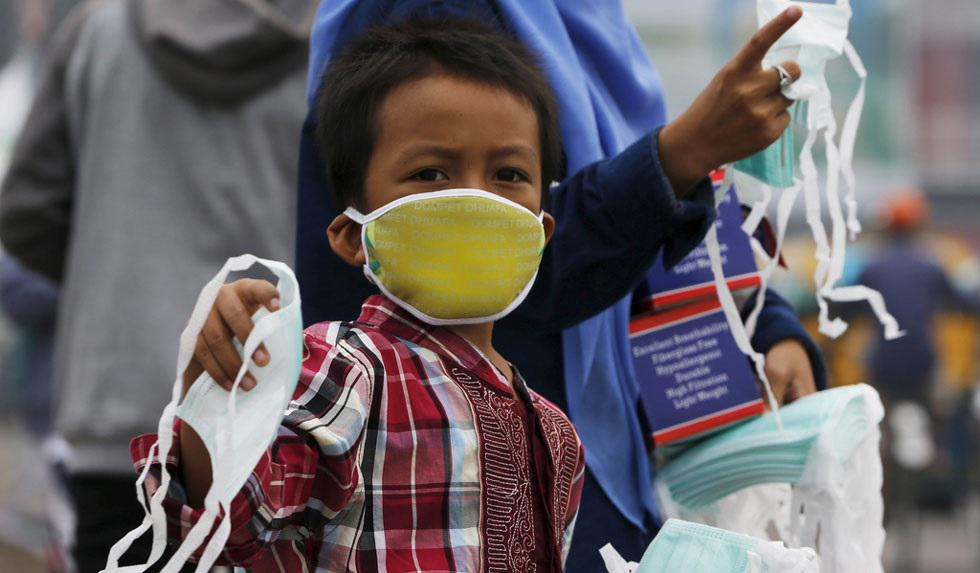OK: (376, 134, 558, 316)
